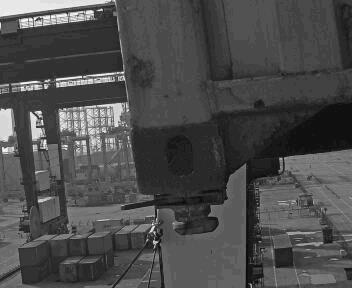twist_lock_1: (156, 186, 245, 242)
